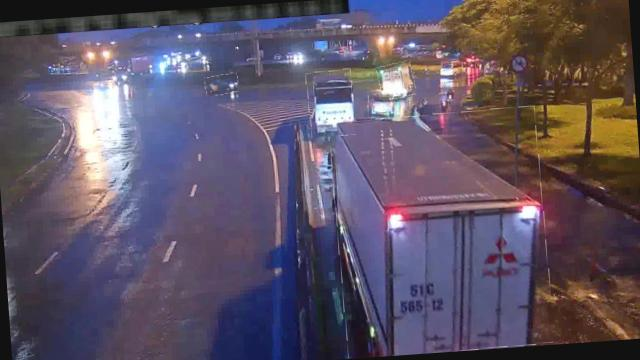Bike: (438, 92, 448, 108)
Car: (204, 73, 238, 96), (366, 89, 392, 117)
Truck: (328, 106, 554, 358), (306, 68, 355, 138), (377, 62, 415, 100)
